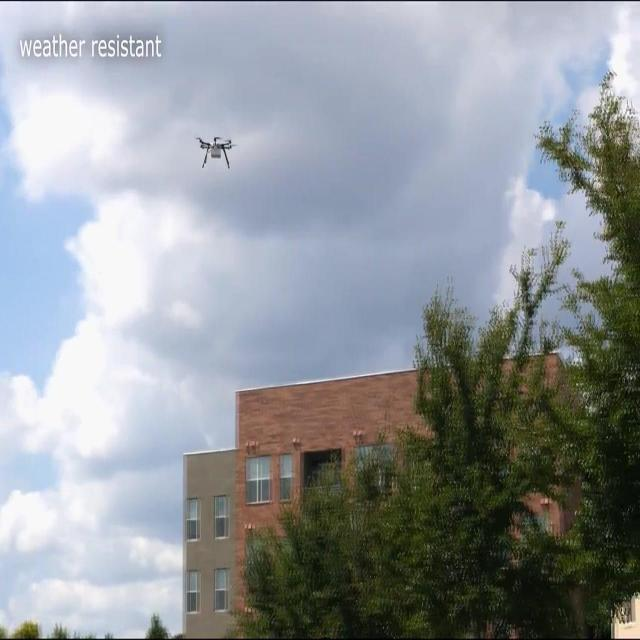UAV: (194, 137, 238, 169)
